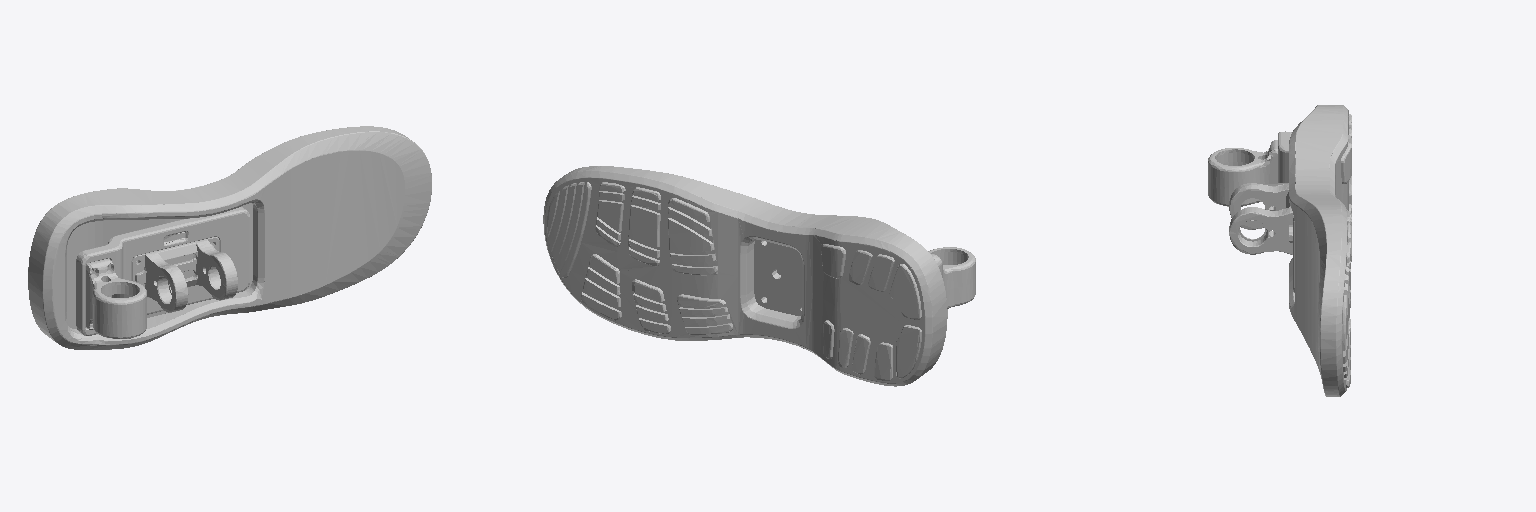
File: right_foot_roll_link.obj
3 renders of one model, left to right at view 1: azimuth 30°, elevation 25°; view 2: azimuth 150°, elevation 25°; view 3: azimuth 270°, elevation 25°, orthographic.
Parts seen in each view (by area): view 1: right_foot_roll_link; view 2: right_foot_roll_link; view 3: right_foot_roll_link.
Boxes of the visible parts, box(x1,y1,x2,y2) form: right_foot_roll_link: box(28, 126, 431, 349); right_foot_roll_link: box(543, 166, 975, 386); right_foot_roll_link: box(1208, 105, 1351, 396).
Size of the model in its own units: 0.2514 by 0.0962 by 0.0799.